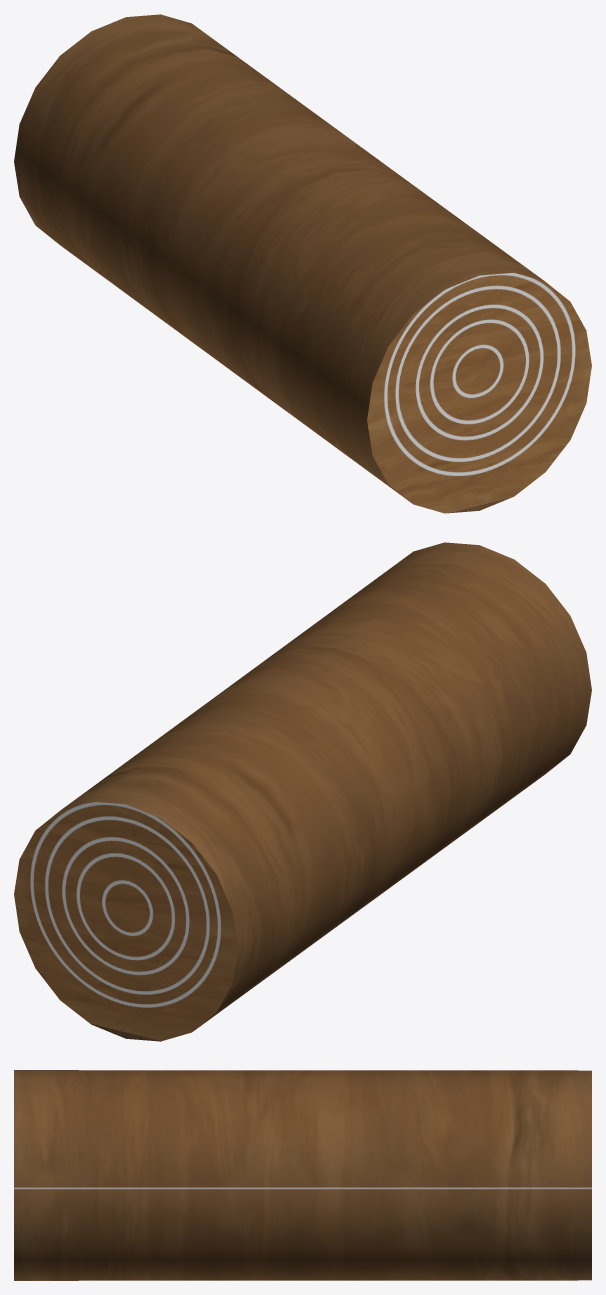
Rendered from wood1.fbx.
The picture shows the model from 3 angles, top to bottom: view 1: azimuth 30°, elevation 25°; view 2: azimuth 150°, elevation 25°; view 3: azimuth 270°, elevation 25°; orthographic projection. The views are drawn at different scales.
Visible parts, largest first — view 1: pCylinder1; view 2: pCylinder1; view 3: pCylinder1.
Part boxes in pixels (bbox=[...]): pCylinder1: bbox=[14, 14, 591, 513]; pCylinder1: bbox=[14, 542, 591, 1041]; pCylinder1: bbox=[14, 1070, 591, 1280].
Bounding box in the file's own units: 2.01 × 2.01 × 5.46.
1 material, 1 textured.
